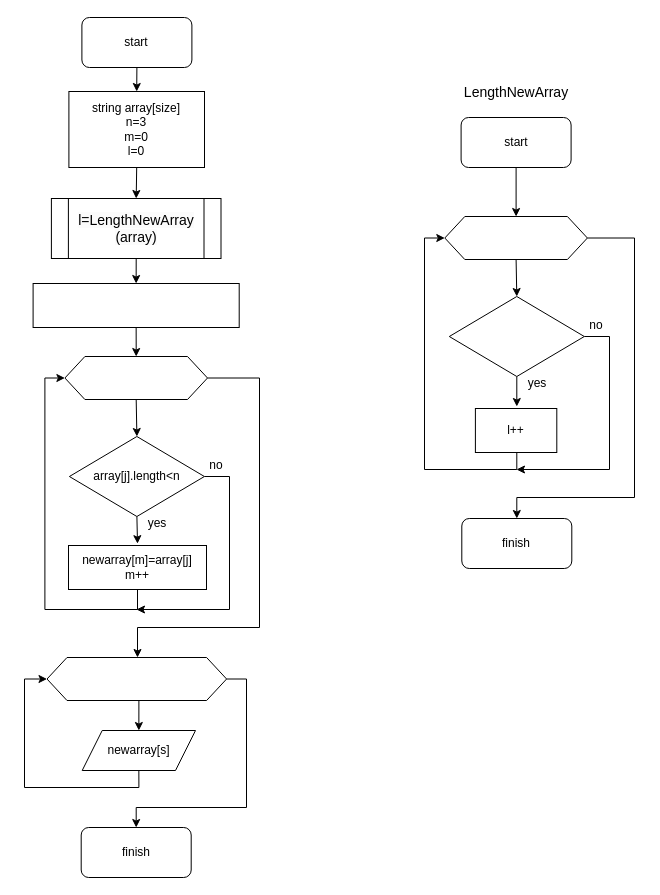
Some shapes in this 660 by 895 pixel diagram are drawn without their labels. Each missing label, with the centre of its shape:
"array[i].length<n" goes at (516,336).
"i=0; i<size; i++" goes at (515,238).
"j=0; j<size; j++" goes at (136,378).
"s=0; s<newarray.Length; s++" goes at (136,678).
"string newarray[l]" goes at (135,305).
